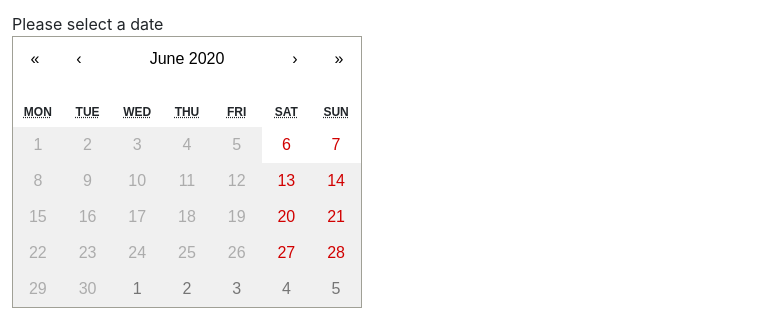
Scenario: should not display times from other days
Expected: the text "Please select a date" is shown, [12,14,163,34]
Click the button named "June 7, 2020": (336, 145) [311,127,361,163]
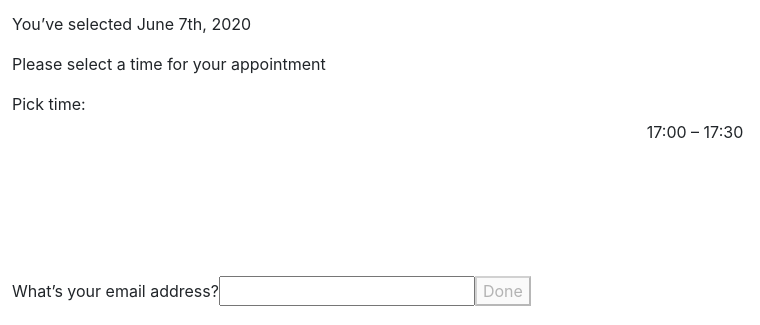
Now the text "Please select a time for your appointment" is shown, box [12,54,326,74]
